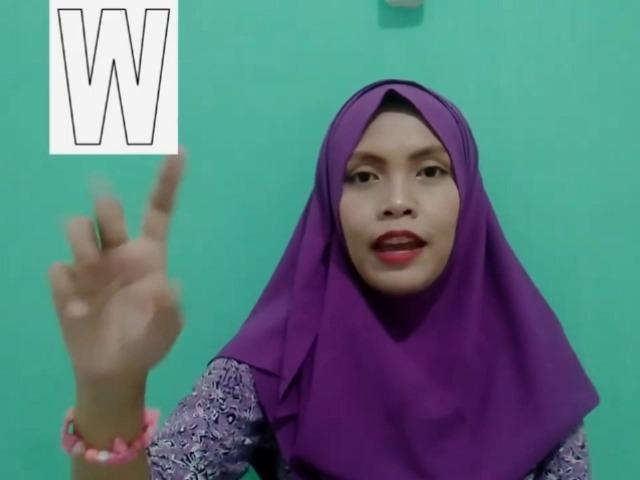X: (48, 147, 194, 375)
